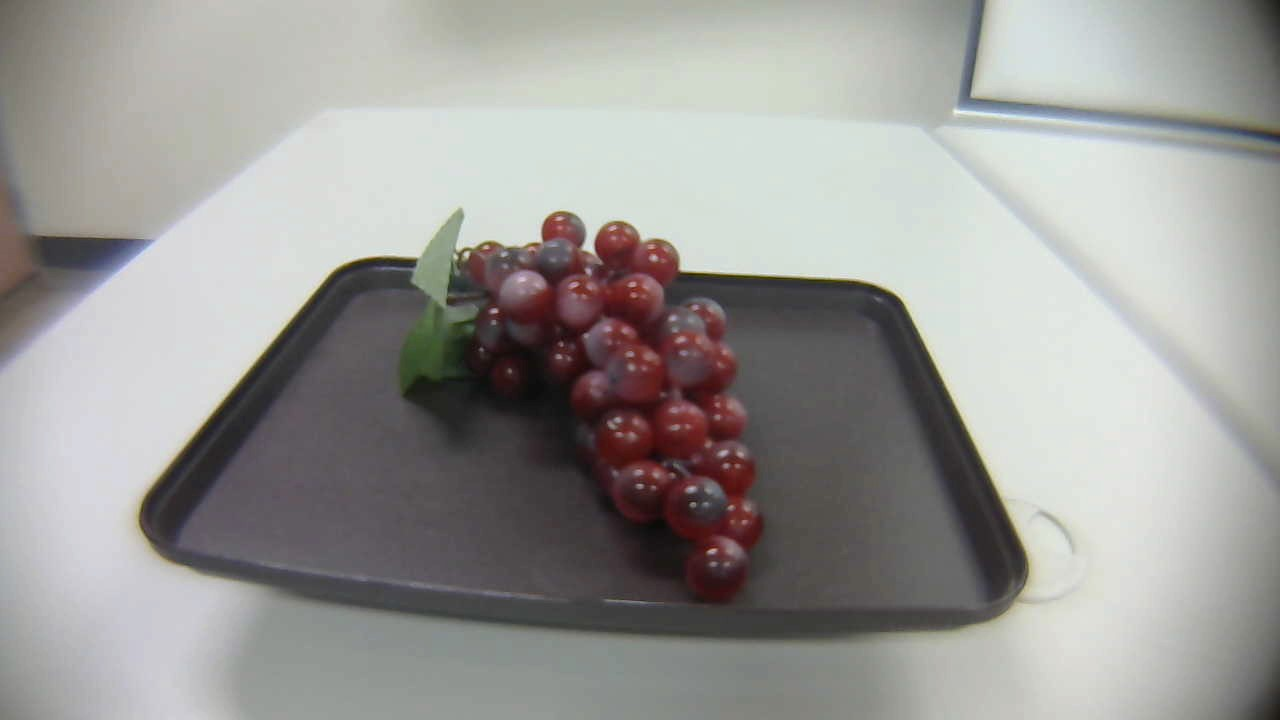grape: (391, 200, 786, 605)
